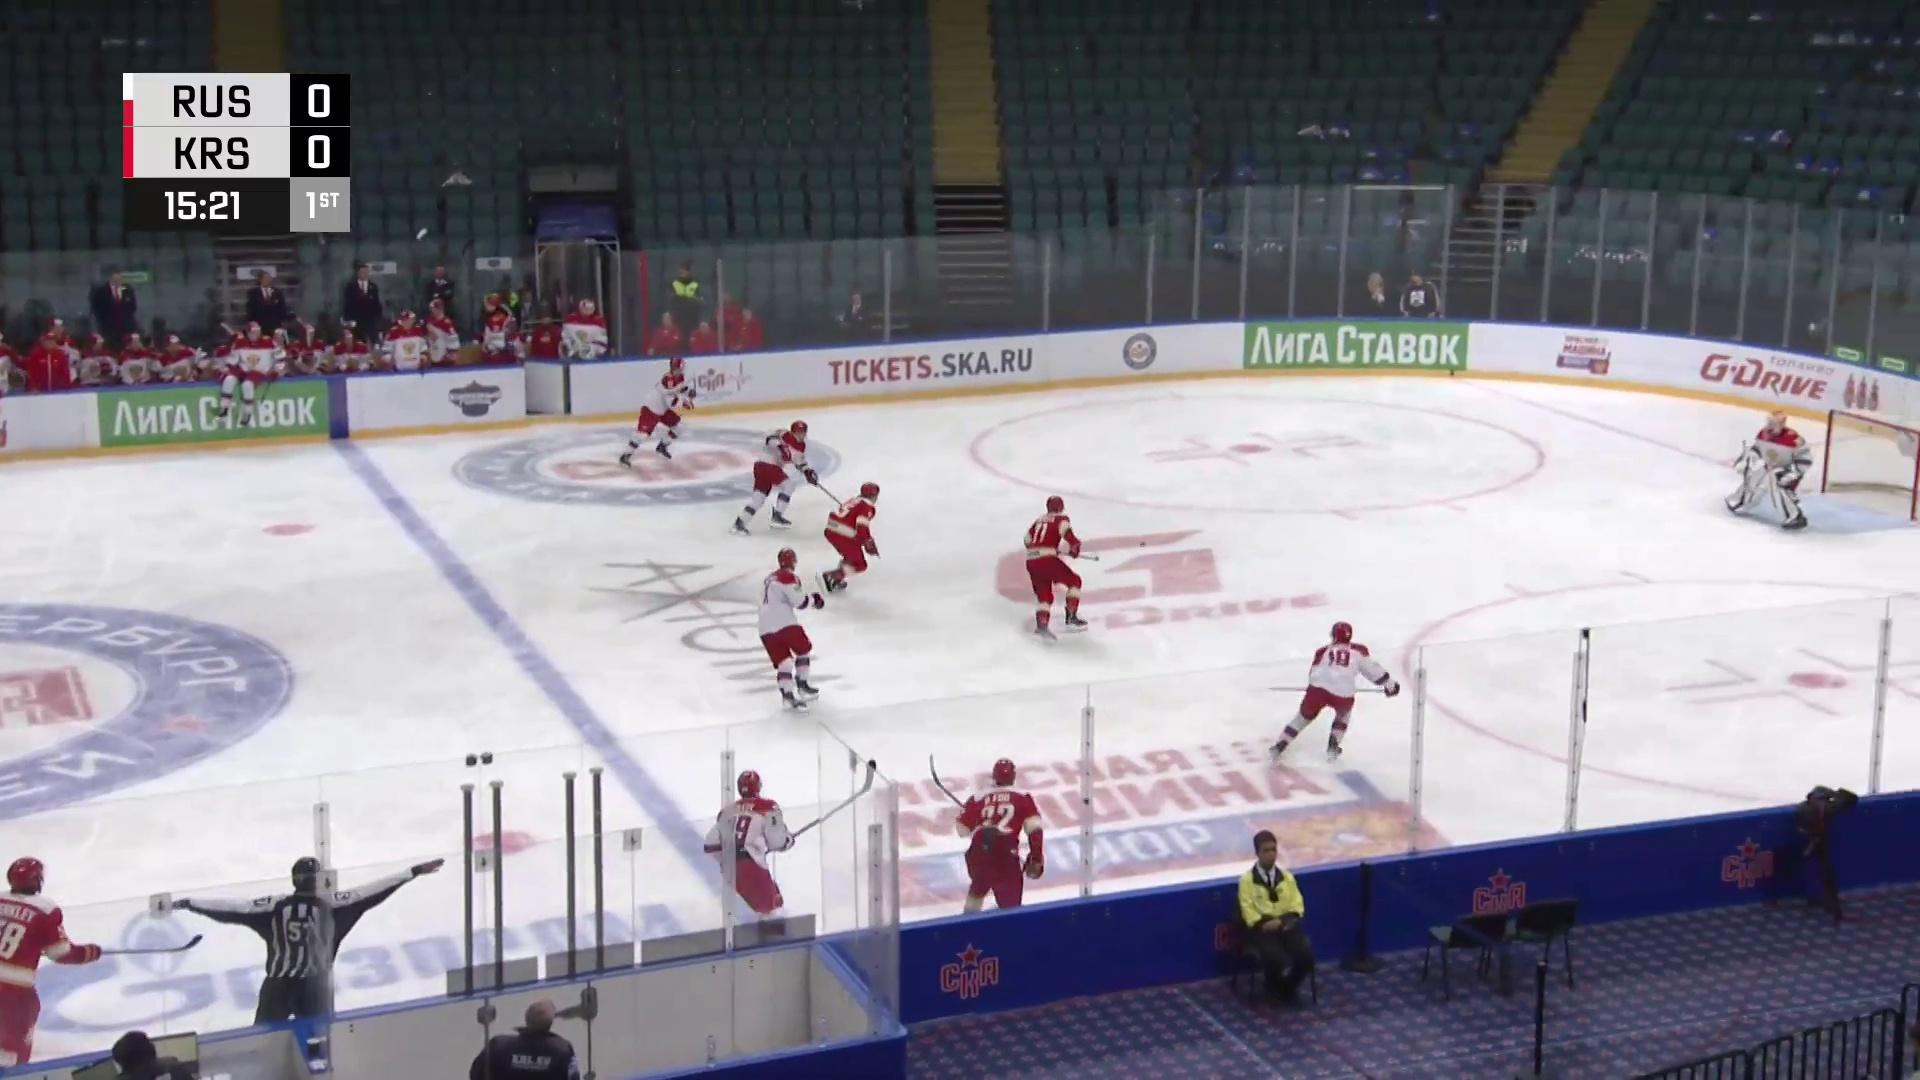ball: (1138, 541, 1149, 547)
